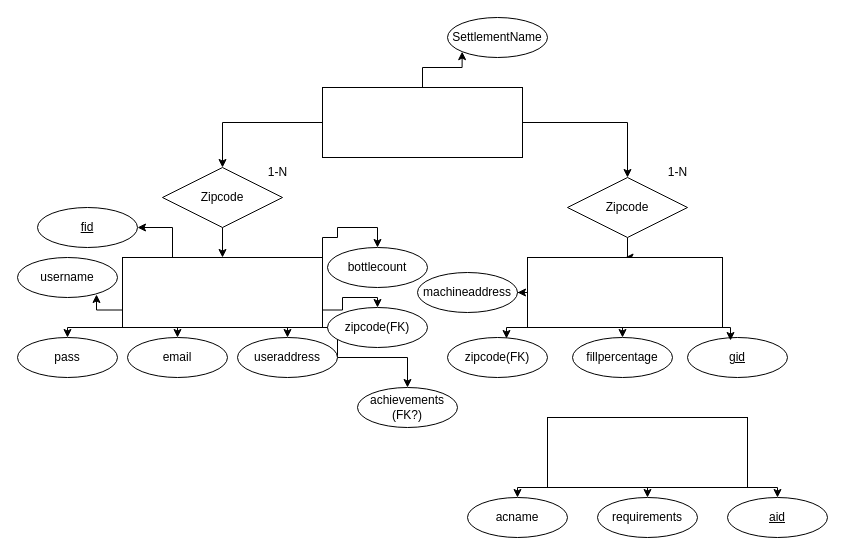
This 845x555 diagram has some shape labels left out. The shapes that lost their labels are listed below. From the top down, each one's centre as x and y in pixels, then its label:
At (422,122): "Settlements".
At (222,292): "Users".
At (624,292): "Machines".
At (647,452): "achivements".
